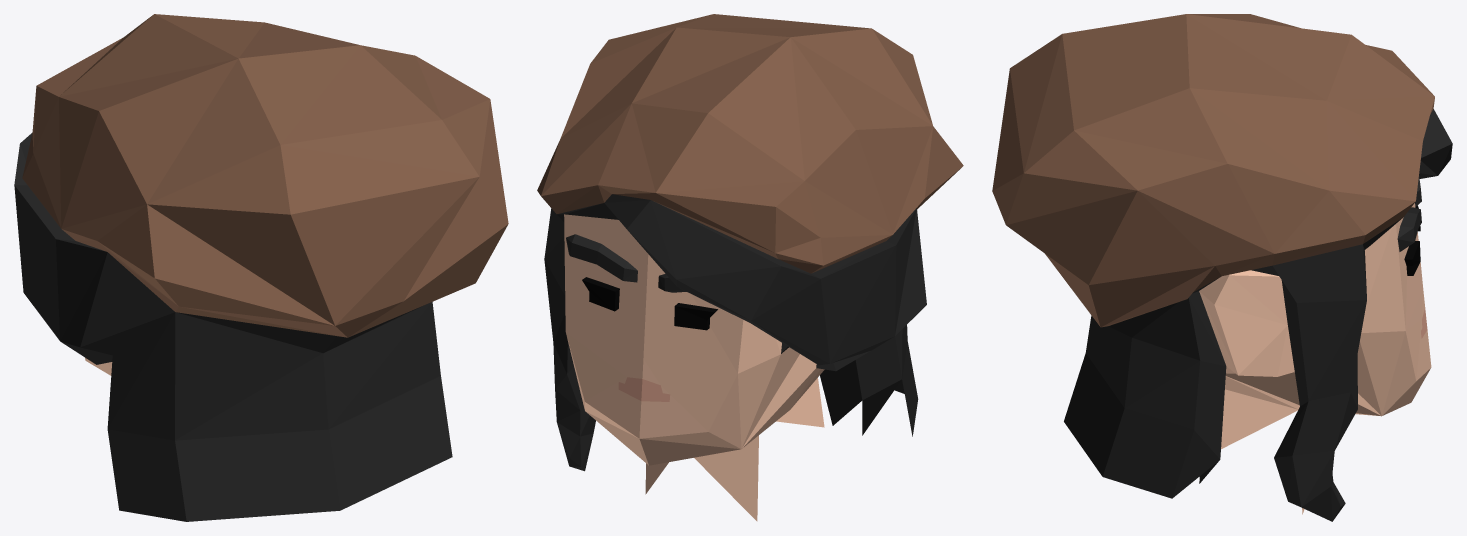
Rendered from Head.obj.
3 renders of one model, left to right at view 1: azimuth 30°, elevation 25°; view 2: azimuth 150°, elevation 25°; view 3: azimuth 270°, elevation 25°, orthographic. The views are drawn at different scales.
Size of the model in its own units: 0.3305 by 0.401 by 0.367.
Materials: 1 (1 with a texture image).
